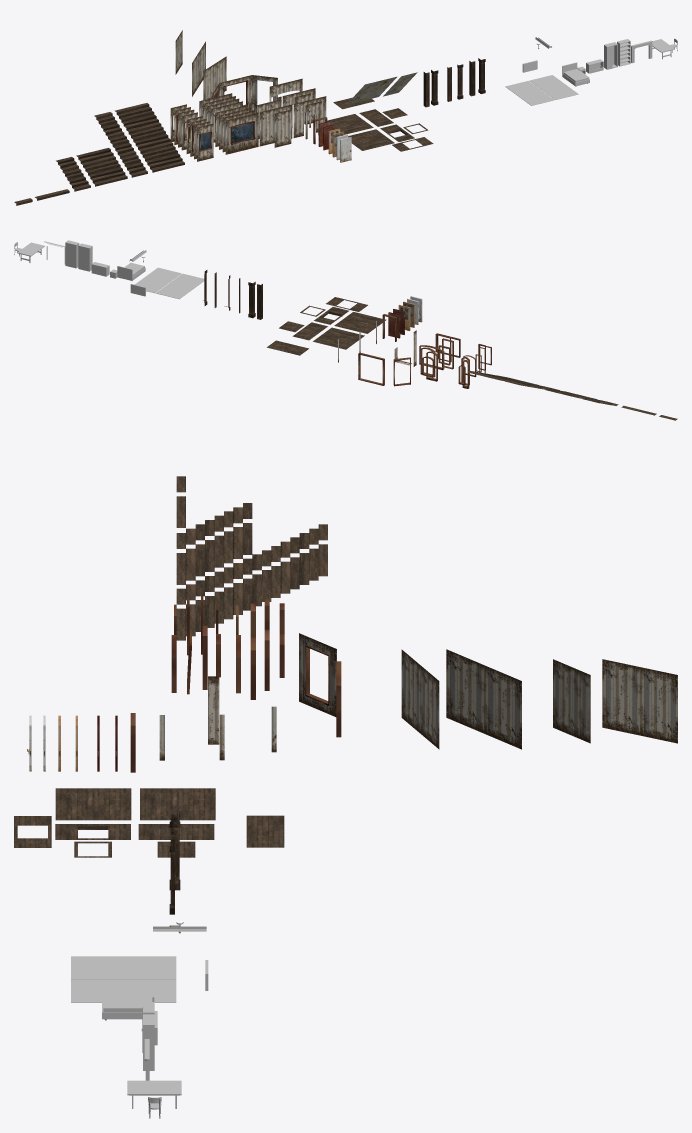
The model's file is Architecture Kit.gltf.
3 renders of one model, top to bottom at view 1: azimuth 30°, elevation 25°; view 2: azimuth 150°, elevation 25°; view 3: azimuth 270°, elevation 25°, orthographic. The views are drawn at different scales.
Parts seen in each view (by area): view 1: Stairs_Wide_Full, Stairs_Narrow_Full, Stairs_Wide_Half, Wall_Window_3x3_01, Wall_3x3, Wall_3x3_Angled_1.5, Wall_BayWindow, Wall_Doorway_3x3, Props_Rug01, Props_Rug02, Wall_3x1.5, Stairs_Narrow_Half (+11 smaller); view 2: Props_Rug02, Floor_3x3, Props_Rug01, Floor_3x3_Hatch, Props_Wardrobe, Props_Bookshelf, Floor_1.5x3_H, Floor_1.5x3_V; view 3: Wall_1.5x1.5_Angled_3, Wall_3x3_Angled_3, Stairs_Wide_Full, Wall_3x3_Angled_1.5, Wall_1.5x1.5_Angled_1.5, Stairs_Narrow_Full, Props_Rug02, Stairs_Wide_Half, Floor_3x3, Floor_3x3_Hatch, Props_Rug01, Wall_BayWindow (+4 smaller).
Part boxes in pixels (x1=…): Stairs_Wide_Full: x1=114, y1=103, x2=184, y2=172; Stairs_Narrow_Full: x1=94, y1=112, x2=147, y2=177; Stairs_Wide_Half: x1=76, y1=148, x2=127, y2=186; Wall_Window_3x3_01: x1=225, y1=112, x2=258, y2=154; Wall_3x3: x1=259, y1=104, x2=292, y2=146; Wall_3x3_Angled_1.5: x1=203, y1=56, x2=226, y2=100; Wall_BayWindow: x1=212, y1=75, x2=277, y2=108; Wall_Doorway_3x3: x1=293, y1=96, x2=326, y2=137; Props_Rug01: x1=529, y1=75, x2=578, y2=99; Props_Rug02: x1=505, y1=81, x2=554, y2=105; Wall_3x1.5: x1=274, y1=109, x2=291, y2=147; Stairs_Narrow_Half: x1=56, y1=157, x2=90, y2=191; Props_Rug02: x1=155, y1=273, x2=204, y2=299; Floor_3x3: x1=313, y1=327, x2=364, y2=349; Props_Rug01: x1=135, y1=267, x2=181, y2=293; Floor_3x3_Hatch: x1=334, y1=312, x2=386, y2=333; Props_Wardrobe: x1=78, y1=243, x2=92, y2=271; Props_Bookshelf: x1=65, y1=240, x2=79, y2=268; Floor_1.5x3_H: x1=267, y1=340, x2=308, y2=355; Floor_1.5x3_V: x1=292, y1=322, x2=327, y2=340; Wall_1.5x1.5_Angled_3: x1=602, y1=659, x2=677, y2=743; Wall_3x3_Angled_3: x1=446, y1=649, x2=521, y2=749; Stairs_Wide_Full: x1=176, y1=544, x2=327, y2=640; Wall_3x3_Angled_1.5: x1=401, y1=649, x2=439, y2=749; Wall_1.5x1.5_Angled_1.5: x1=553, y1=659, x2=590, y2=743; Stairs_Narrow_Full: x1=176, y1=524, x2=327, y2=604; Props_Rug02: x1=71, y1=956, x2=176, y2=979; Stairs_Wide_Half: x1=176, y1=523, x2=252, y2=584; Floor_3x3: x1=140, y1=788, x2=215, y2=820; Floor_3x3_Hatch: x1=55, y1=788, x2=131, y2=820; Props_Rug01: x1=71, y1=980, x2=176, y2=1002; Wall_BayWindow: x1=299, y1=633, x2=336, y2=716.
Size of the model in its own units: 59.93 by 6.2 by 26.33.
